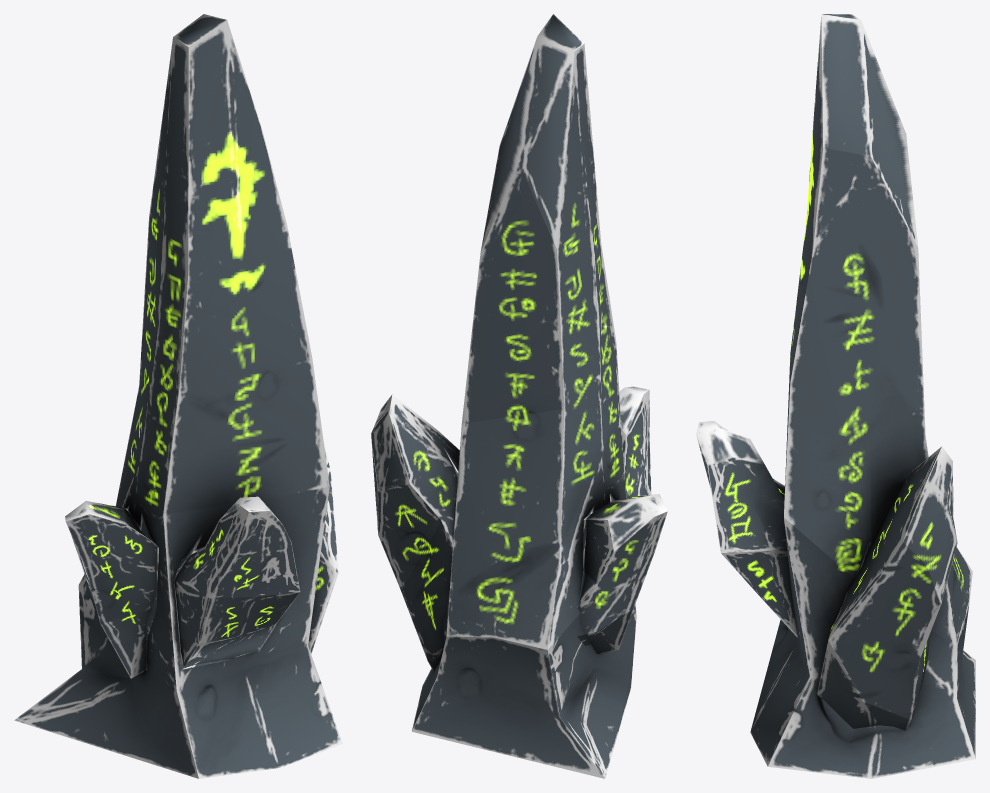
File: a_magic_rock.glb
The picture shows the model from 3 angles, left to right: view 1: azimuth 30°, elevation 25°; view 2: azimuth 150°, elevation 25°; view 3: azimuth 270°, elevation 25°; orthographic projection. The views are drawn at different scales.
Visible parts, largest first — view 1: g Caillou_low Caillou_low1_Caillou_low Caillou_low1_Default_, g Caillou2_low1 Caillou_low_Caillou2_low1 Caillou_low_Defaul, g Caillou_low Caillou1_low1_Caillou_low Caillou1_low1_Defaul, g Caillou_low Caillou4_low1_Caillou_low Caillou4_low1_Defaul; view 2: g Caillou_low Caillou_low1_Caillou_low Caillou_low1_Default_, g Caillou_low Caillou4_low1_Caillou_low Caillou4_low1_Defaul, g Caillou_low Caillou1_low1_Caillou_low Caillou1_low1_Defaul, g Caillou2_low1 Caillou_low_Caillou2_low1 Caillou_low_Defaul; view 3: g Caillou_low Caillou_low1_Caillou_low Caillou_low1_Default_, g Caillou_low Caillou4_low1_Caillou_low Caillou4_low1_Defaul, g Caillou2_low1 Caillou_low_Caillou2_low1 Caillou_low_Defaul.
Boxes of the visible parts, left/top/right/bottom form: g Caillou_low Caillou_low1_Caillou_low Caillou_low1_Default_: left=14, top=14, right=342, bottom=778; g Caillou2_low1 Caillou_low_Caillou2_low1 Caillou_low_Defaul: left=174, top=496, right=300, bottom=669; g Caillou_low Caillou1_low1_Caillou_low Caillou1_low1_Defaul: left=65, top=501, right=158, bottom=678; g Caillou_low Caillou4_low1_Caillou_low Caillou4_low1_Defaul: left=308, top=439, right=338, bottom=653; g Caillou_low Caillou_low1_Caillou_low Caillou_low1_Default_: left=412, top=14, right=636, bottom=778; g Caillou_low Caillou4_low1_Caillou_low Caillou4_low1_Defaul: left=371, top=394, right=459, bottom=671; g Caillou_low Caillou1_low1_Caillou_low Caillou1_low1_Defaul: left=577, top=494, right=667, bottom=654; g Caillou2_low1 Caillou_low_Caillou2_low1 Caillou_low_Defaul: left=619, top=386, right=651, bottom=497; g Caillou_low Caillou_low1_Caillou_low Caillou_low1_Default_: left=750, top=14, right=975, bottom=778; g Caillou_low Caillou4_low1_Caillou_low Caillou4_low1_Defaul: left=817, top=446, right=957, bottom=730; g Caillou2_low1 Caillou_low_Caillou2_low1 Caillou_low_Defaul: left=696, top=421, right=797, bottom=637.
Size of the model in its own units: 40.25 by 101 by 35.84.
4 materials, 4 textured.
